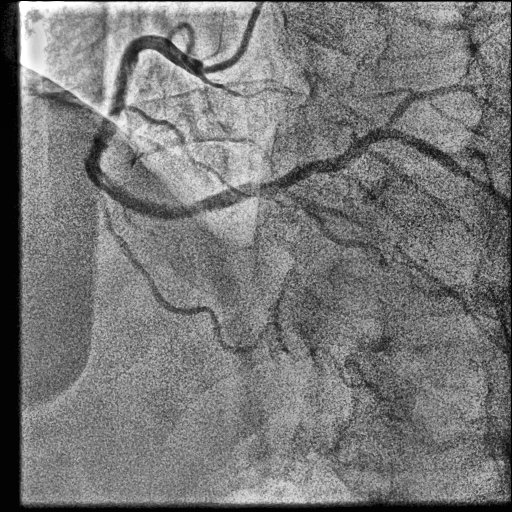pborca: (279, 129, 505, 202)
pda: (265, 195, 386, 266)
rca: (84, 35, 280, 218)
